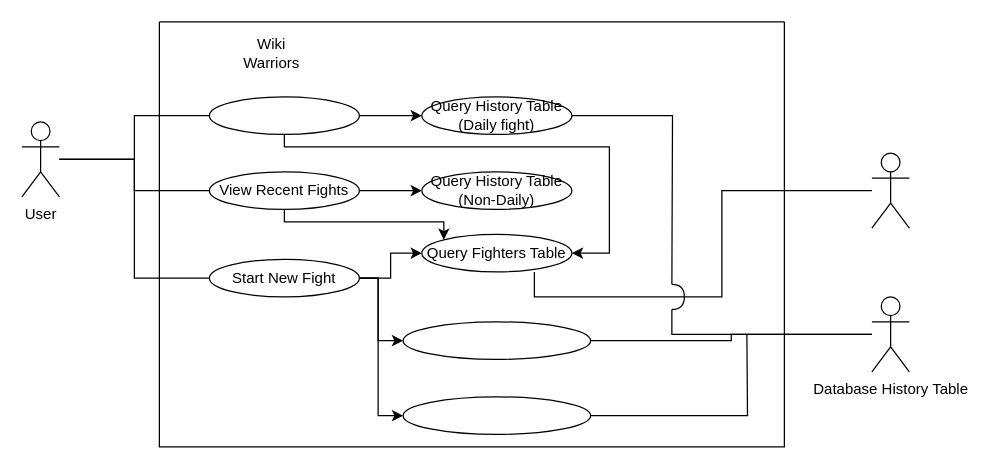
Image size: 994x469. Some labels were removed from this diagram. Each missing label, with the centre of its shape:
Database Fighters Table: (x=890, y=190)
Insert Fight for History Table: (x=496, y=415)
Insert Fighter for Fighter Table: (x=496, y=340)
View Daily Fights: (x=283, y=115)
